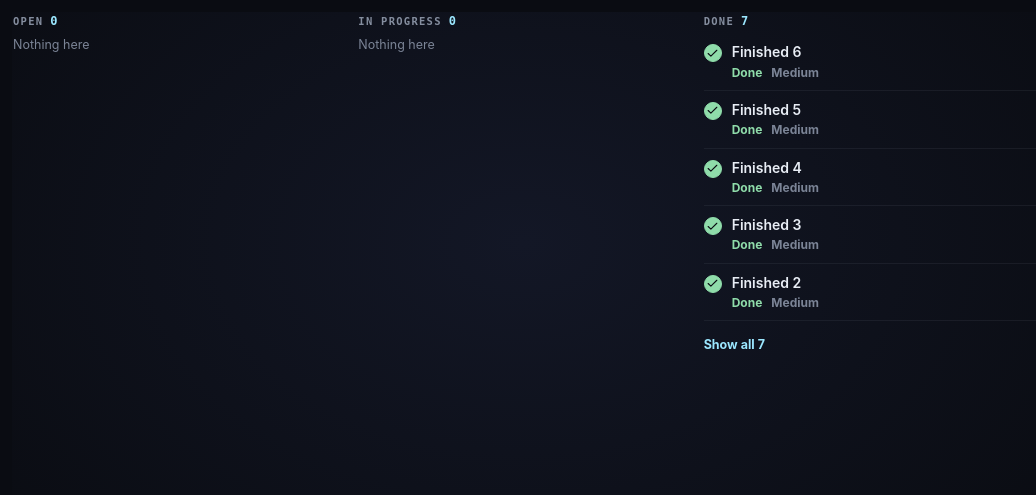
it: KanbanBoard › caps the Done column at the most recent five behind Show all
This screenshot has width=1036, height=495.
Check: the number of list items is 5, box [704,33,1035,91]; [704,91,1035,149]; [704,148,1035,206]; [704,206,1035,264]; [704,264,1035,321]
Check: the list item "Finished 6 Done medium" is shown, box [704,33,1035,91]
Click the button "Show all 7" at x=734, y=344, box [704,329,765,359]
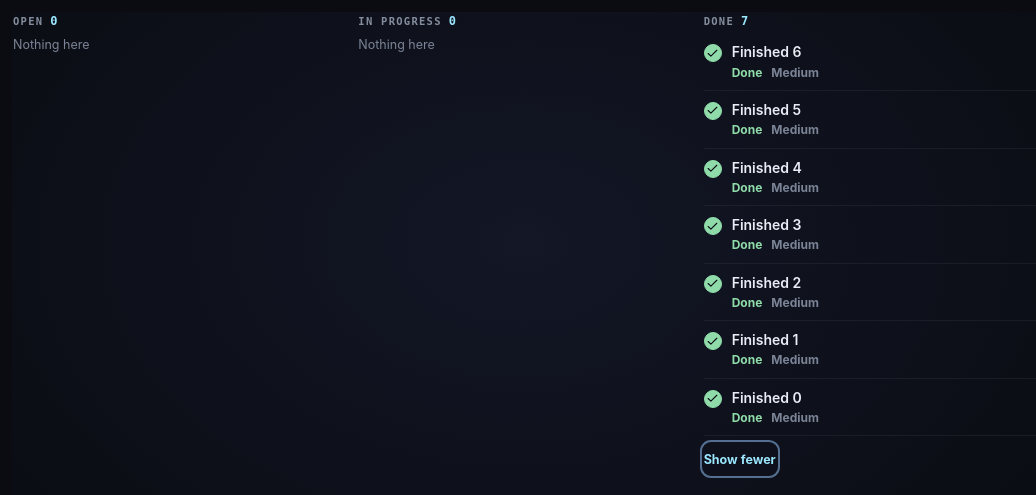
Check: the number of list items is 7
Click the button "Show fewer" at x=740, y=459, box [704,444,776,474]
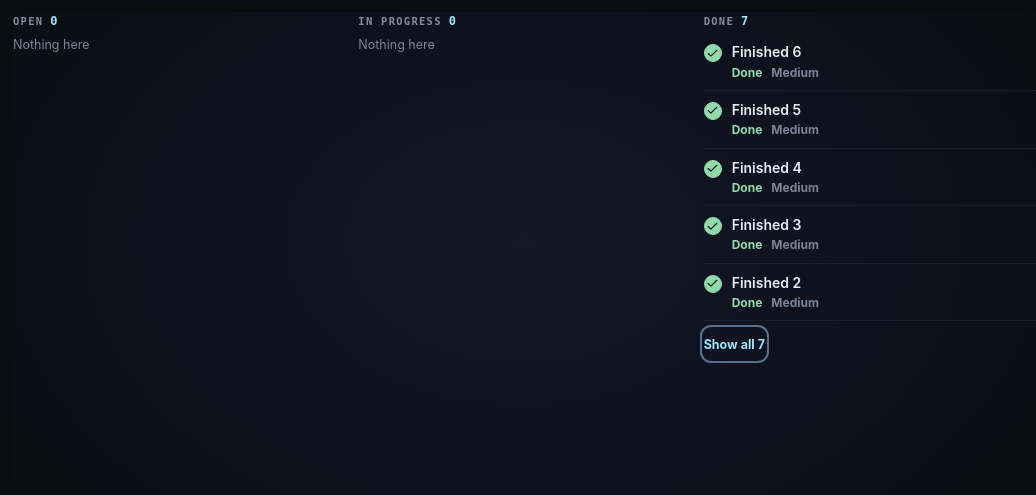
Check: the number of list items is 5, box [704,33,1035,91]; [704,91,1035,149]; [704,148,1035,206]; [704,206,1035,264]; [704,264,1035,321]
